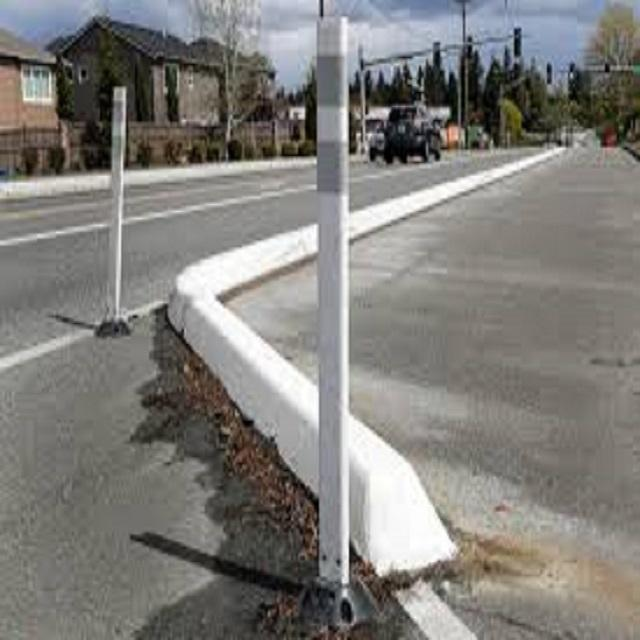curb: (270, 383, 417, 607), (174, 284, 303, 420), (187, 234, 311, 302), (352, 190, 428, 247)
